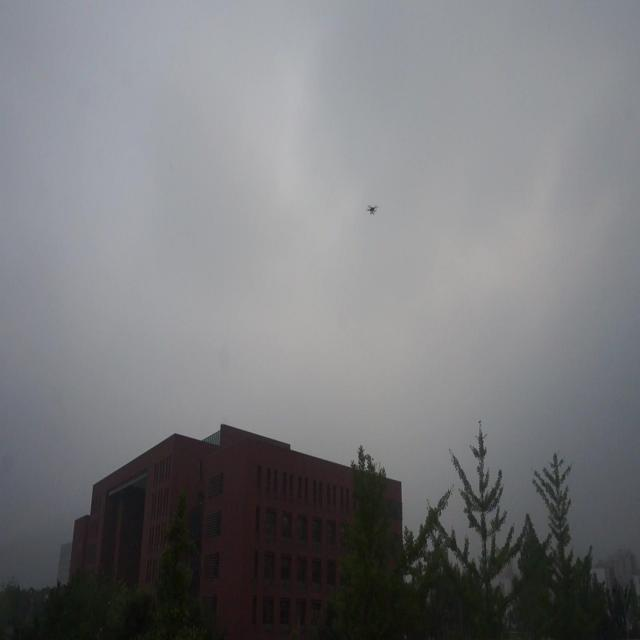UAV: (366, 205, 378, 215)
